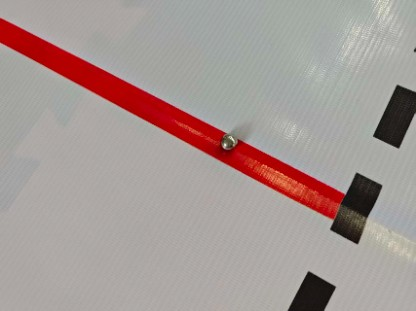ironball: (221, 133, 235, 149)
